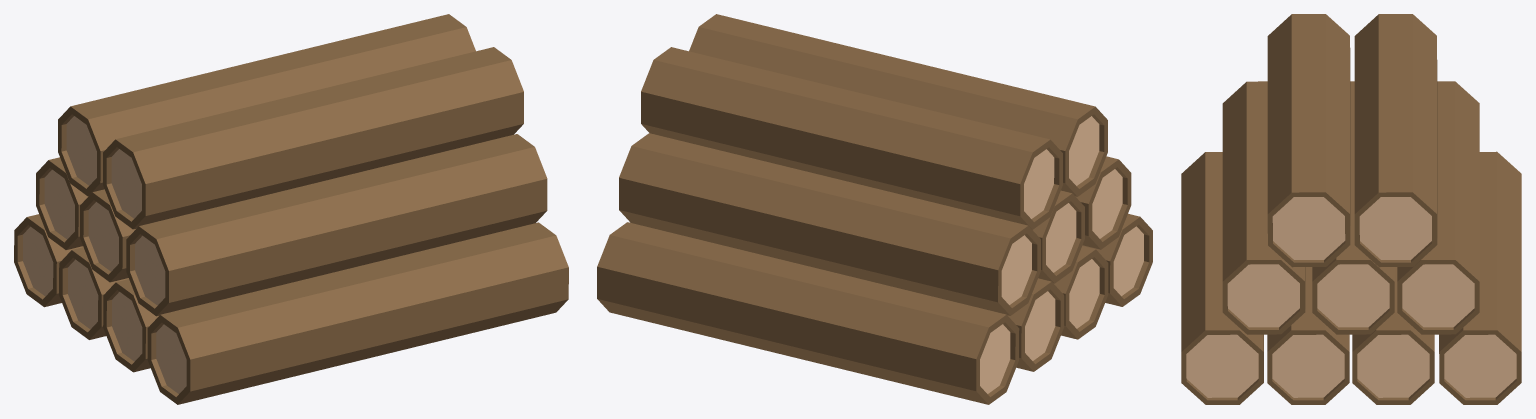
File: Tronco_decorado_3.fbx
3 renders of one model, left to right at view 1: azimuth 30°, elevation 25°; view 2: azimuth 150°, elevation 25°; view 3: azimuth 270°, elevation 25°, orthographic. The views are drawn at different scales.
Visible parts, largest first — view 1: pCylinder6, pCylinder7, pCylinder11, pCylinder10, pCylinder3, pCylinder8, pCylinder5, pCylinder4, pCylinder9; view 2: pCylinder3, pCylinder9, pCylinder10, pCylinder11, pCylinder4, pCylinder7, pCylinder6, pCylinder5, pCylinder8; view 3: pCylinder11, pCylinder10, pCylinder7, pCylinder3, pCylinder9, pCylinder6, pCylinder8, pCylinder5, pCylinder4.
Part boxes in pixels (bbox=[...]): pCylinder6: bbox=[147, 222, 568, 404]; pCylinder7: bbox=[126, 134, 547, 316]; pCylinder11: bbox=[103, 47, 523, 229]; pCylinder10: bbox=[58, 14, 475, 196]; pCylinder3: bbox=[14, 214, 83, 307]; pCylinder8: bbox=[80, 189, 135, 282]; pCylinder5: bbox=[103, 279, 158, 372]; pCylinder4: bbox=[59, 247, 128, 339]; pCylinder9: bbox=[36, 157, 88, 249]; pCylinder3: bbox=[597, 222, 1019, 404]; pCylinder9: bbox=[619, 133, 1040, 315]; pCylinder10: bbox=[641, 47, 1062, 229]; pCylinder11: bbox=[689, 14, 1107, 196]; pCylinder4: bbox=[1007, 278, 1064, 371]; pCylinder7: bbox=[1075, 156, 1131, 249]; pCylinder6: bbox=[1082, 213, 1152, 306]; pCylinder5: bbox=[1053, 246, 1108, 339]; pCylinder8: bbox=[1033, 190, 1084, 283]; pCylinder11: bbox=[1267, 14, 1350, 267]; pCylinder10: bbox=[1354, 14, 1437, 267]; pCylinder7: bbox=[1222, 81, 1305, 334]; pCylinder3: bbox=[1439, 151, 1521, 404]; pCylinder9: bbox=[1397, 81, 1479, 334]; pCylinder6: bbox=[1181, 152, 1263, 404]; pCylinder8: bbox=[1312, 81, 1394, 334]; pCylinder5: bbox=[1267, 267, 1349, 404]; pCylinder4: bbox=[1352, 267, 1434, 404].
Size of the model in its own units: 9.47 by 5.26 by 7.63.
